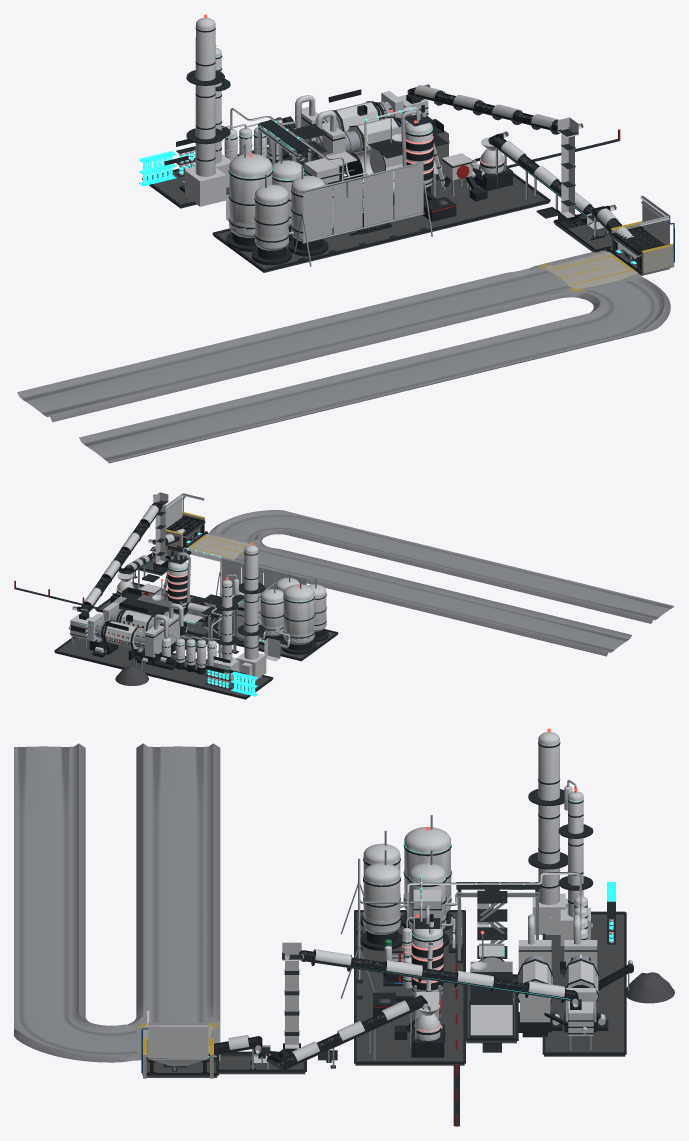
Rendered from refinery_b45b4649.glb.
3 renders of one model, top to bottom at view 1: azimuth 30°, elevation 25°; view 2: azimuth 150°, elevation 25°; view 3: azimuth 270°, elevation 25°, orthographic. The views are drawn at different scales.
Visible parts, largest first — view 1: Base_Paint, Tier_12, Tier_20, Tier_08, Tier_03; view 2: Base_Paint, Tier_12, Tier_08, Tier_20, Tier_03, Base_GlowCyan, Kiln_Drum, Intake_Grate; view 3: Base_Paint, Tier_12, Tier_20, Tier_08.
Boxes of the visible parts, x1,y1,x2,y2 form: Base_Paint: (17,48,674,463); Tier_12: (185,17,226,206); Tier_20: (252,165,328,265); Tier_08: (316,106,416,177); Tier_03: (139,150,176,186); Base_Paint: (14,492,674,699); Tier_12: (236,545,266,680); Tier_08: (103,602,183,652); Tier_20: (275,572,328,642); Tier_03: (231,671,257,696); Base_GlowCyan: (79,532,314,687); Kiln_Drum: (95,621,146,648); Intake_Grate: (167,516,202,534); Base_Paint: (14,743,674,1126); Tier_12: (528,732,567,934); Tier_20: (360,830,407,950); Tier_08: (517,914,567,1037).
Bounding box in the file's own units: 60 × 15.14 × 44.2.
